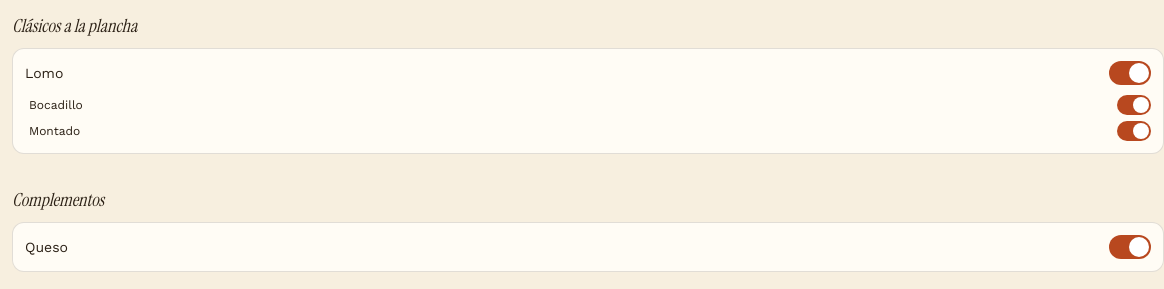
Test case: VistaDisponibilidad › revierte el cambio si el servidor falla
The width and height of the screenshot is (1164, 289).
Click the switch named "Lomo" at point(1130, 73), box x1=1109 y1=61 x2=1151 y2=85
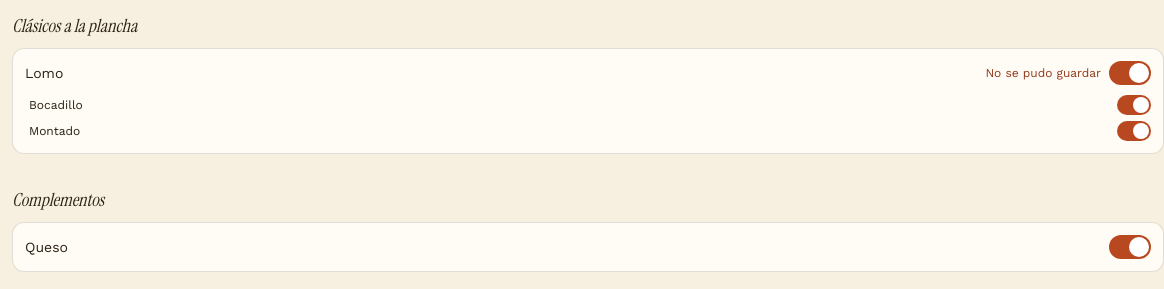
Expected: the text "No se pudo guardar" is shown, x1=985 y1=65 x2=1101 y2=81
